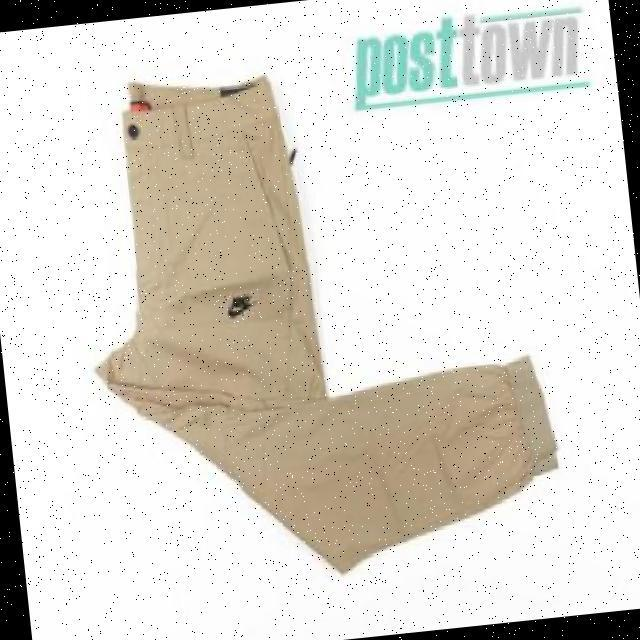Nike: (223, 290, 256, 319)
